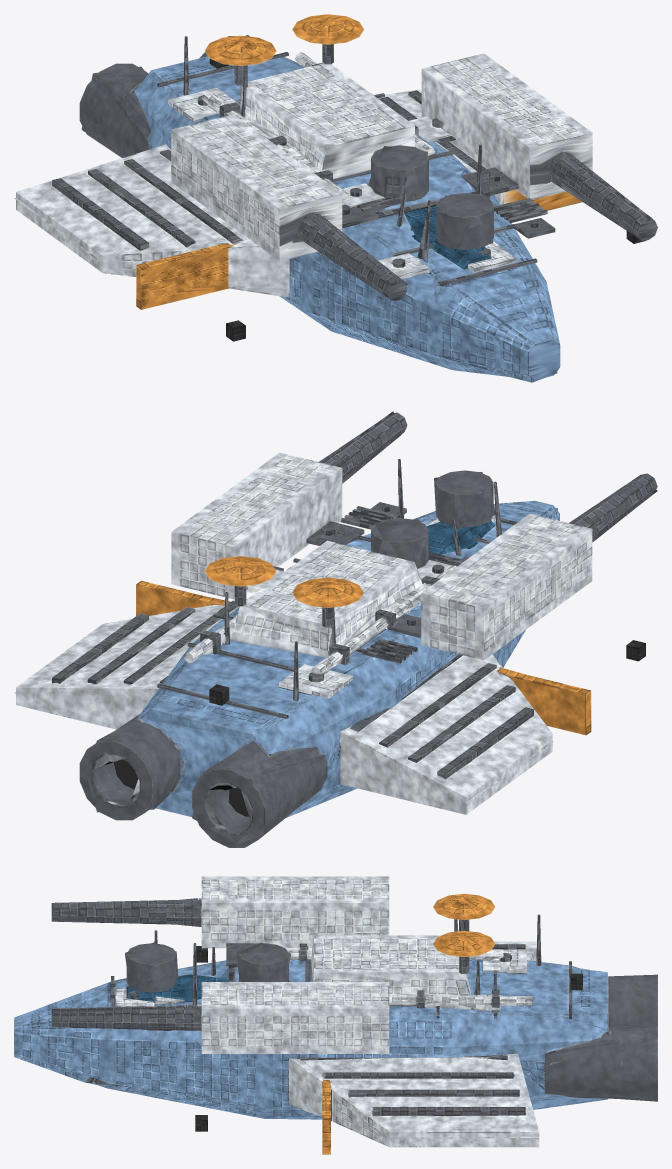
File: sd_npc_corvette.glb
The picture shows the model from 3 angles, top to bottom: view 1: azimuth 30°, elevation 25°; view 2: azimuth 150°, elevation 25°; view 3: azimuth 270°, elevation 25°; orthographic projection. The views are drawn at different scales.
Parts seen in each view (by area): view 1: LOD0_body, LOD1_body; view 2: LOD0_body, LOD1_body; view 3: LOD0_body, LOD1_body.
Part boxes in pixels (x1,y1,x2,y2): LOD0_body: [16, 14, 657, 379]; LOD1_body: [14, 22, 652, 382]; LOD0_body: [16, 412, 657, 847]; LOD1_body: [14, 411, 657, 843]; LOD0_body: [14, 876, 657, 1154]; LOD1_body: [14, 876, 657, 1138].
Size of the model in its own units: 0.7045 by 0.2925 by 1.
1 material, 1 textured.
